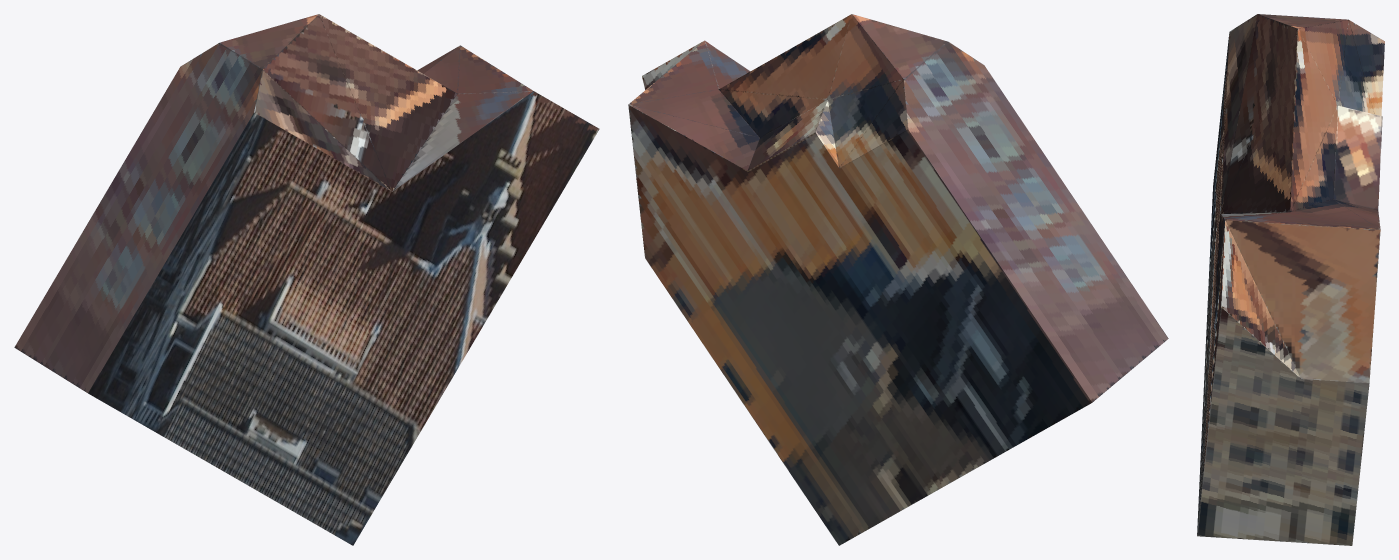
The picture shows the model from 3 angles, left to right: view 1: azimuth 30°, elevation 25°; view 2: azimuth 150°, elevation 25°; view 3: azimuth 270°, elevation 25°; orthographic projection. The views are drawn at different scales.
Visible parts, largest first — view 1: BAG_0599100000760365 (×3); view 2: BAG_0599100000760365 (×5); view 3: BAG_0599100000760365 (×5).
Boxes of the visible parts, left/top/right/bottom form: BAG_0599100000760365 (×3): left=14, top=14, right=599, bottom=545; BAG_0599100000760365 (×5): left=628, top=14, right=1168, bottom=545; BAG_0599100000760365 (×5): left=1197, top=14, right=1384, bottom=545.
Bounding box in the file's own units: 25.21 × 23.46 × 7.62.
Materials: 5 (5 with a texture image).
